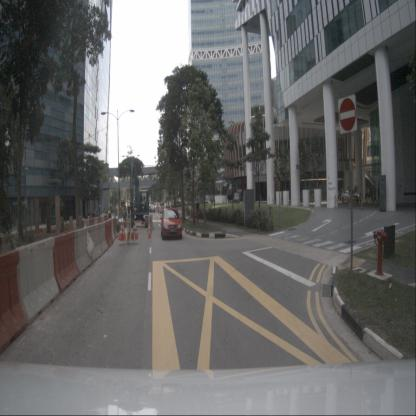barrier: (12, 235, 60, 326), (0, 248, 28, 357), (52, 230, 80, 295), (72, 226, 93, 275), (87, 224, 103, 263), (98, 221, 110, 254), (105, 220, 114, 247), (110, 218, 116, 240), (82, 218, 90, 233), (114, 215, 118, 240), (89, 218, 94, 232), (94, 216, 99, 229), (101, 215, 105, 227), (98, 216, 102, 228), (104, 215, 107, 225)
cone: (129, 221, 136, 241), (118, 221, 124, 241), (134, 221, 139, 241), (122, 223, 126, 242), (148, 221, 152, 240)
